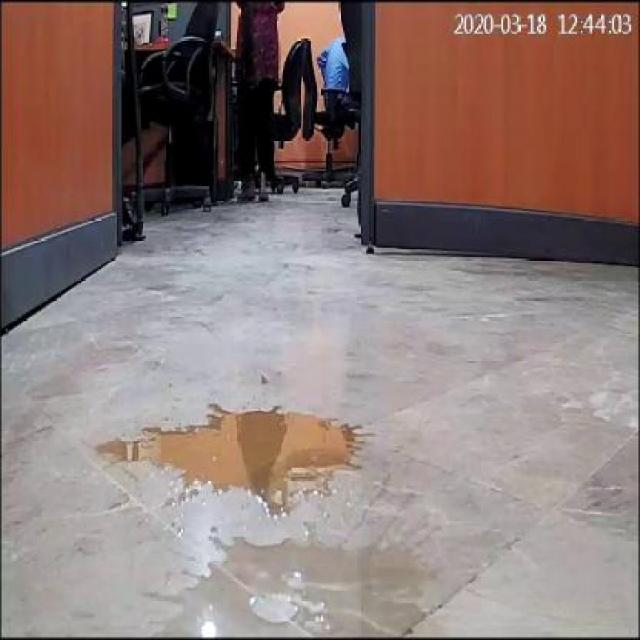spill: (135, 522, 440, 638), (95, 394, 377, 508)
